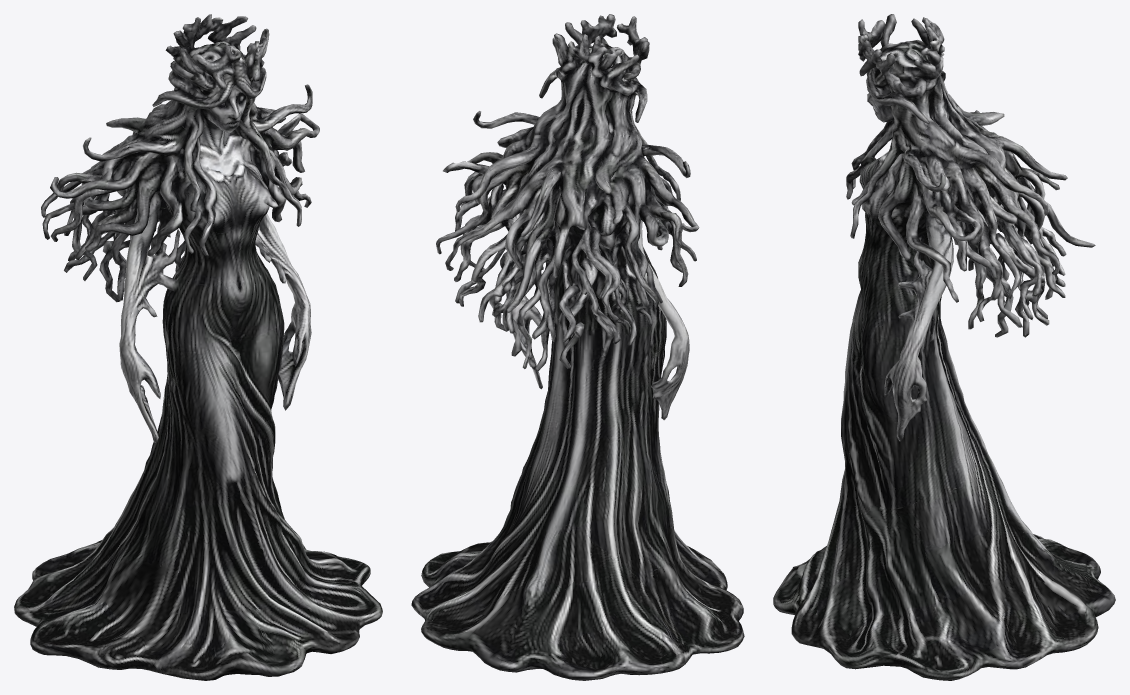
Rendered from Spree_Rusalka.glb.
3 views of the same model, side by side, from view 1: azimuth 30°, elevation 25°; view 2: azimuth 150°, elevation 25°; view 3: azimuth 270°, elevation 25° (orthographic). The views are drawn at different scales.
Bounding box in the file's own units: 1.08 × 1.9 × 1.01.
Materials: 1 (1 with a texture image).
